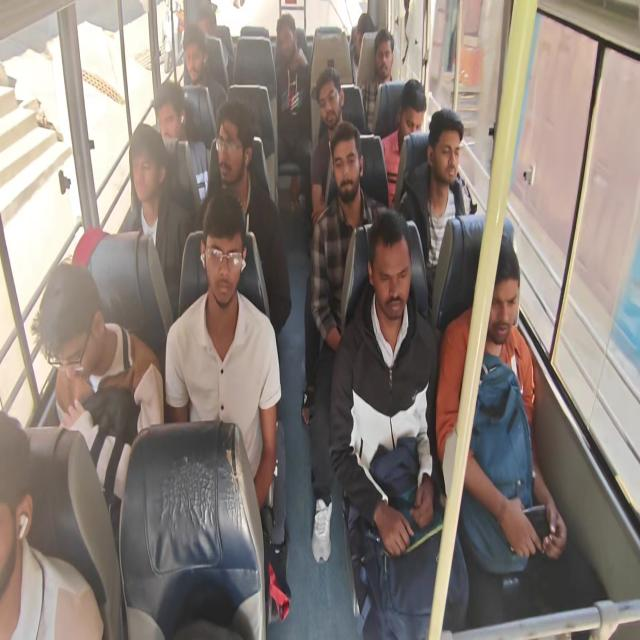person: (328, 206, 470, 638), (435, 235, 567, 576), (31, 261, 164, 547), (301, 121, 387, 563), (164, 190, 282, 512), (0, 409, 104, 638), (200, 98, 292, 334), (118, 122, 192, 320), (399, 108, 470, 307), (152, 80, 209, 215), (273, 13, 311, 207), (310, 66, 356, 226), (380, 78, 427, 206), (178, 24, 227, 138), (360, 29, 395, 132), (350, 12, 375, 84)
